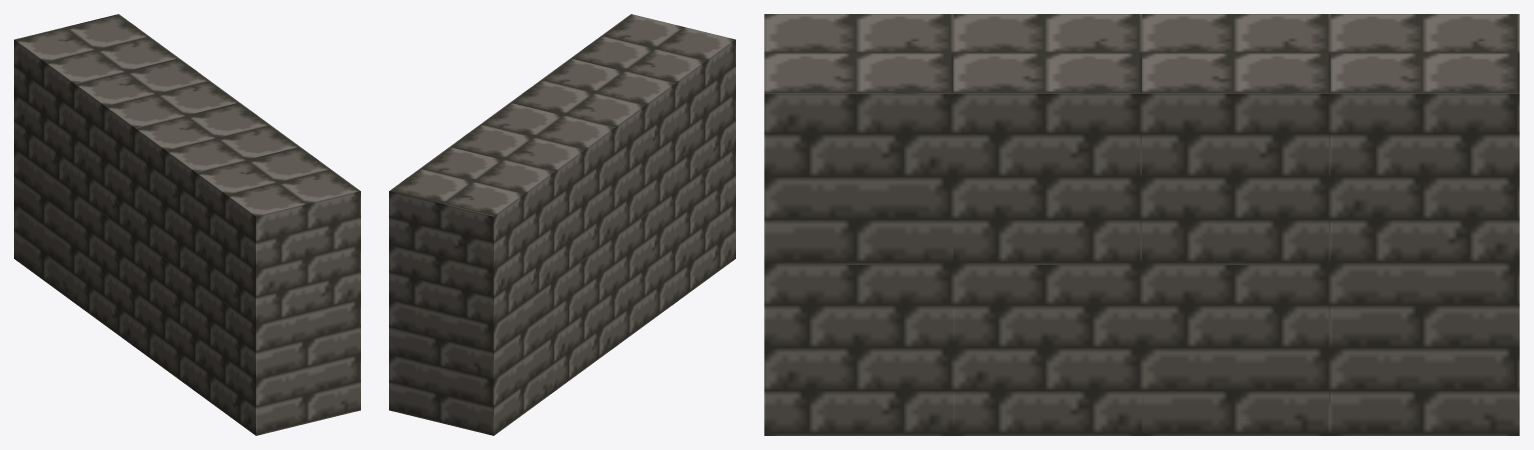
File: Foundation_Short_x4.fbx
3 views of the same model, side by side, from view 1: azimuth 30°, elevation 25°; view 2: azimuth 150°, elevation 25°; view 3: azimuth 270°, elevation 25° (orthographic). The views are drawn at different scales.
Visible parts, largest first — view 1: Foundation_Short_x4; view 2: Foundation_Short_x4; view 3: Foundation_Short_x4.
Part boxes in pixels (x1=…): Foundation_Short_x4: x1=14, y1=14, x2=360, y2=435; Foundation_Short_x4: x1=389, y1=14, x2=735, y2=435; Foundation_Short_x4: x1=764, y1=14, x2=1519, y2=435.
Size of the model in its own units: 200 by 400 by 800.
1 material, 1 textured.
